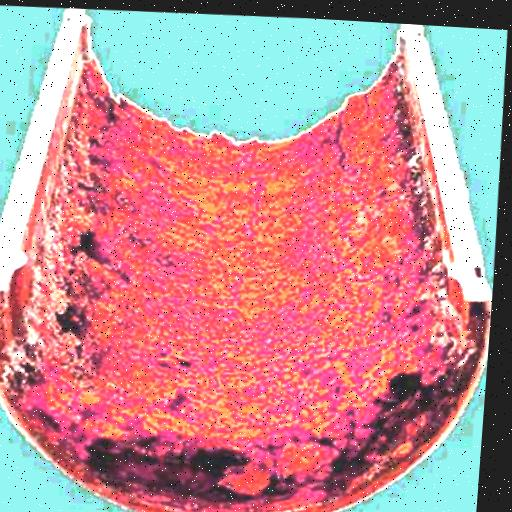corrosion: (52, 56, 457, 512)
